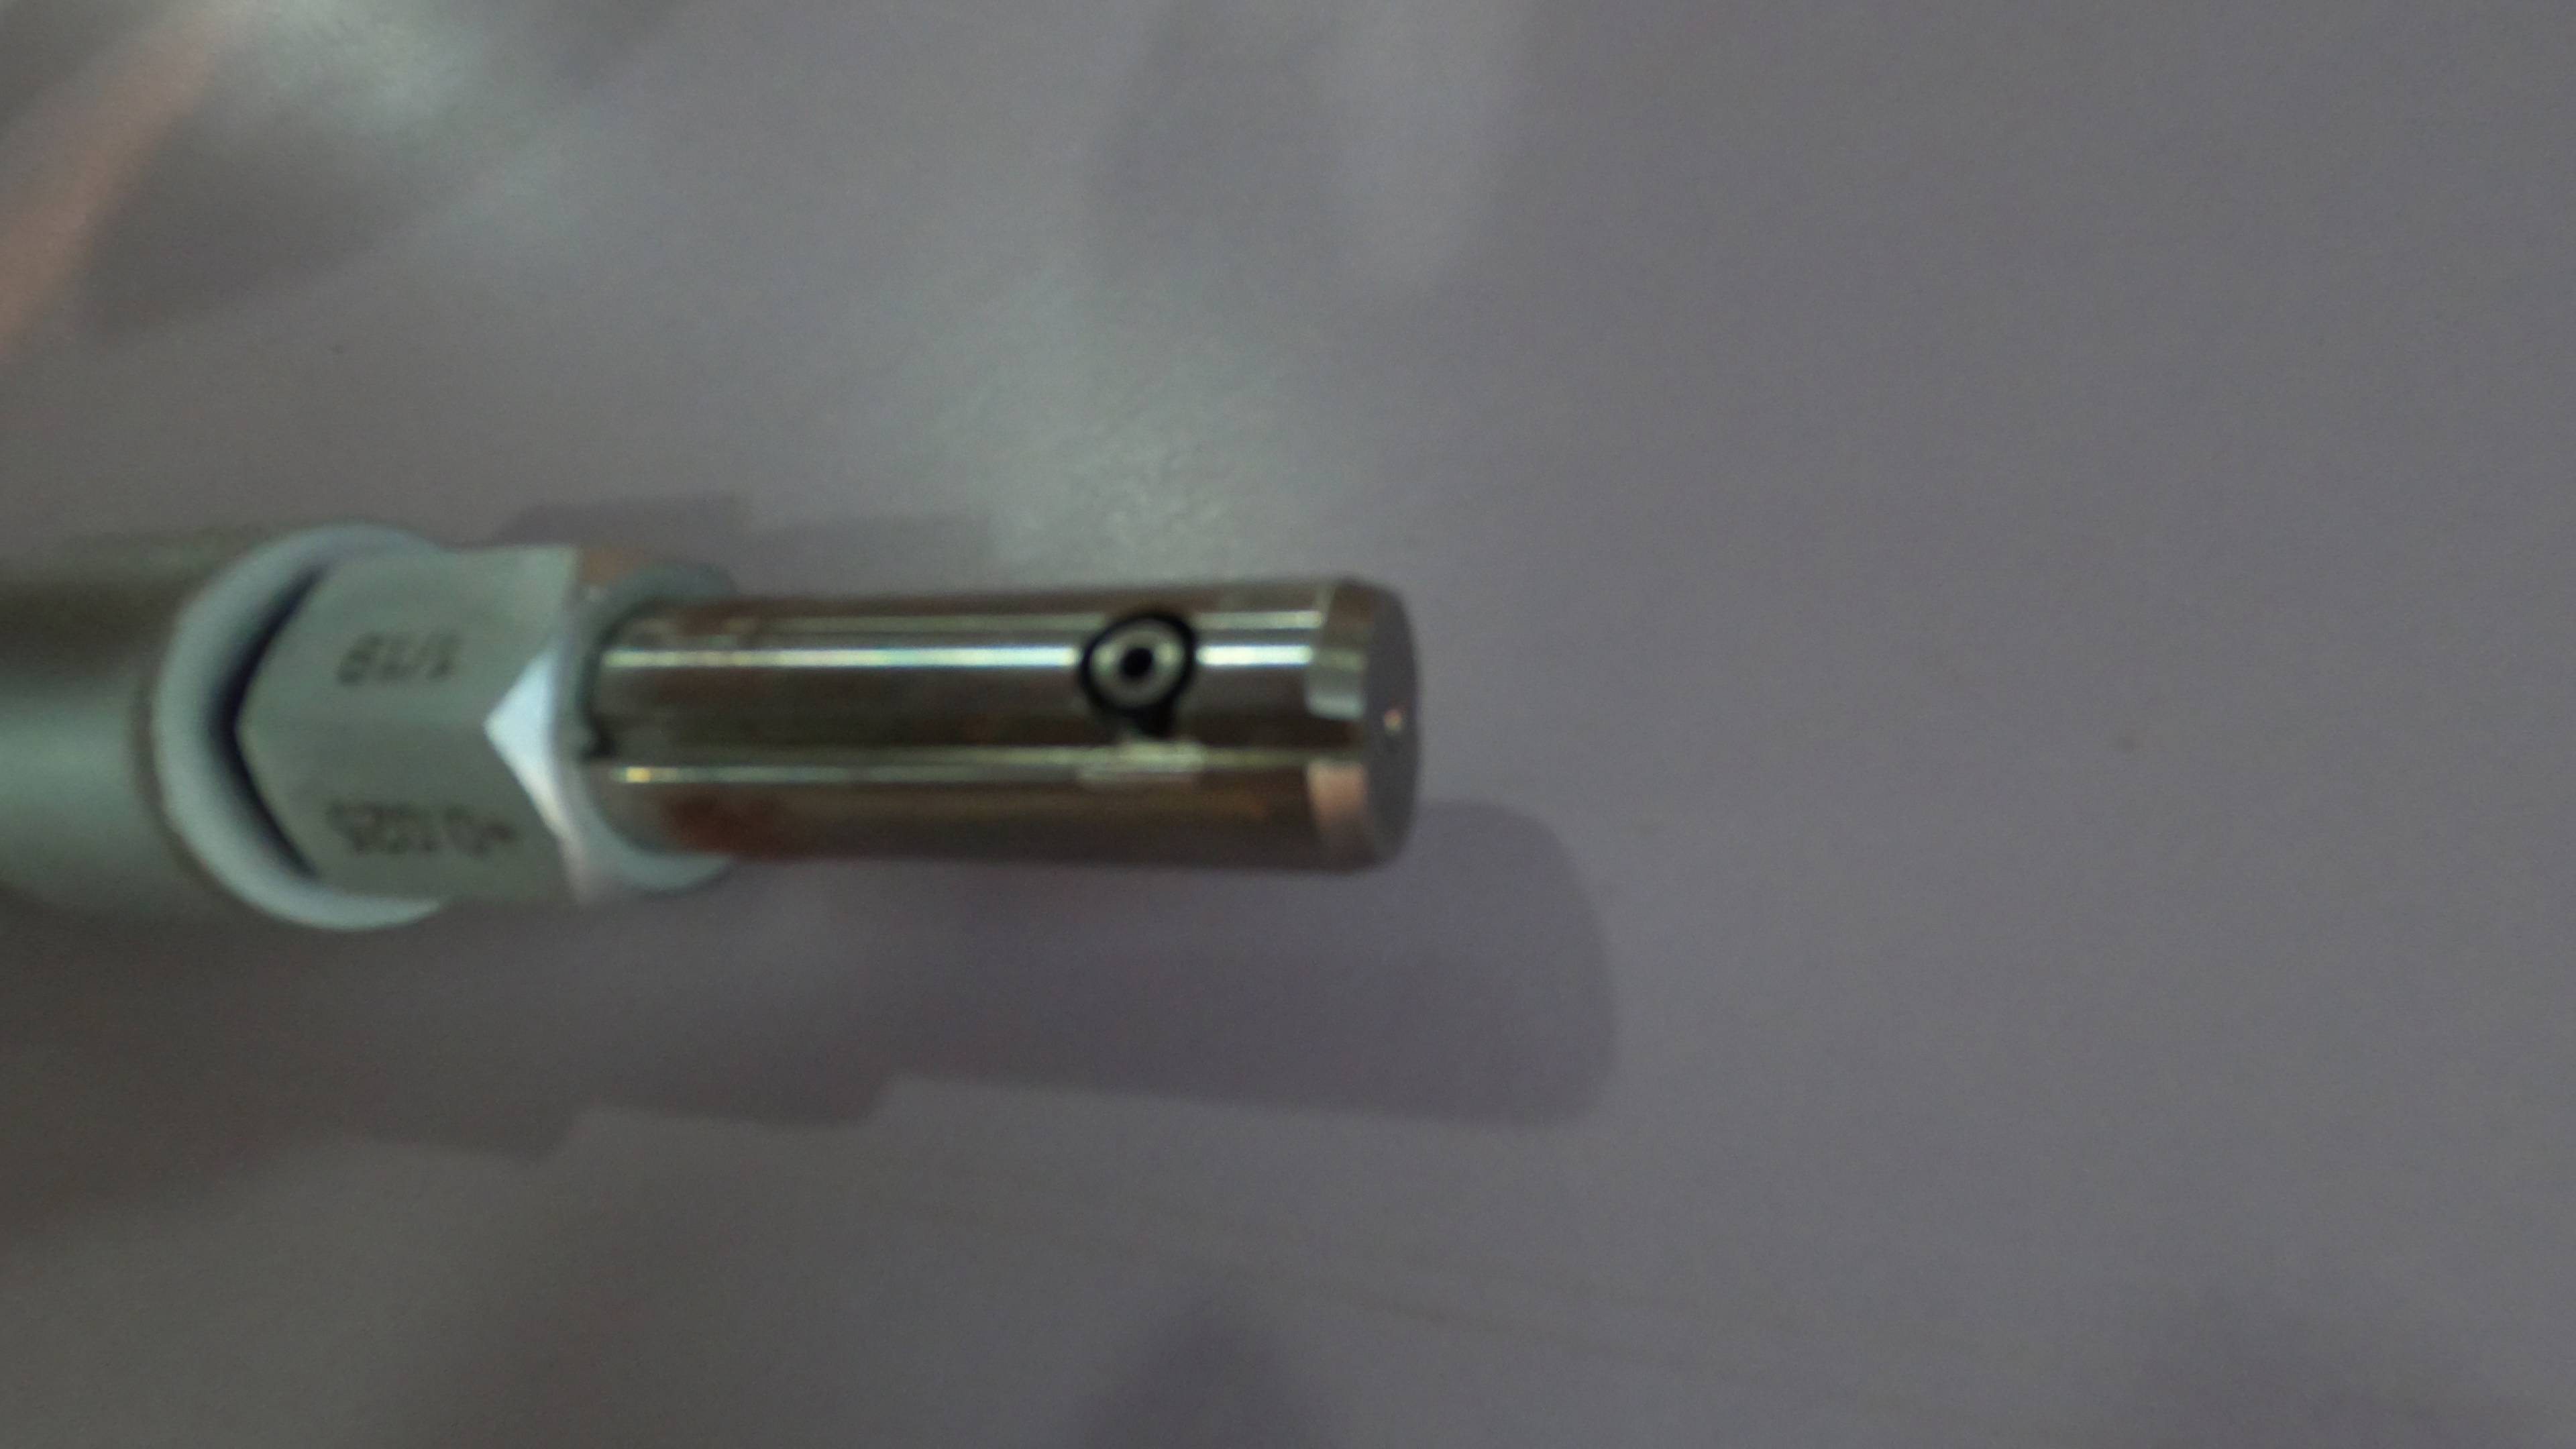air_gauge: (2, 522, 1430, 938)
